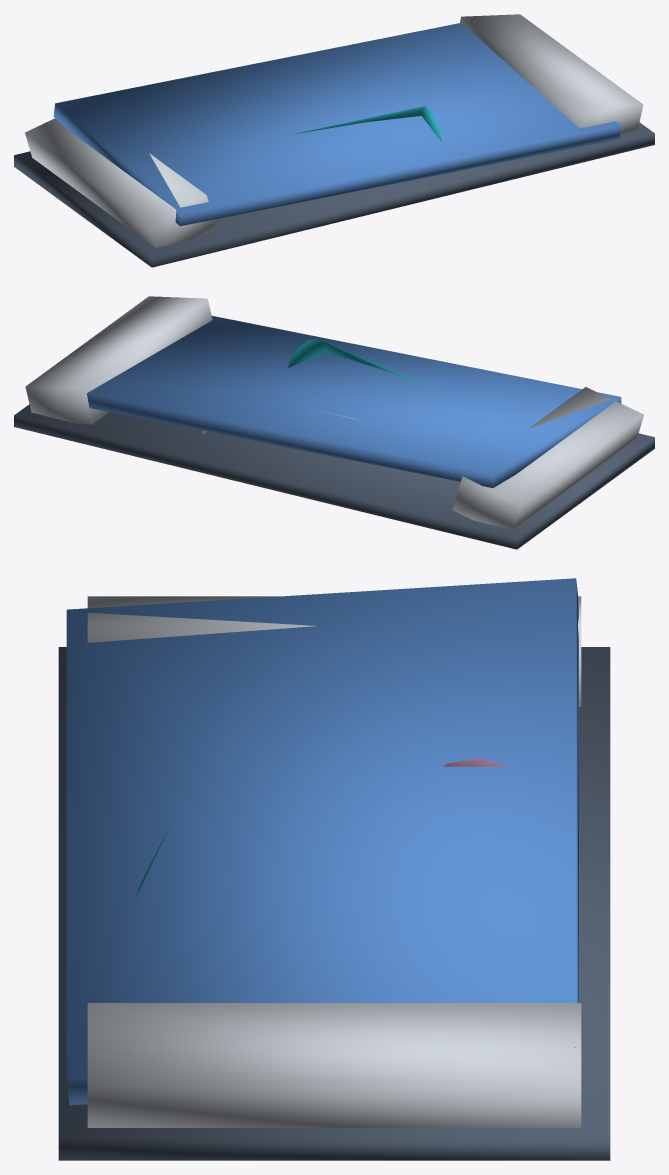
File: carwash-wreck.glb
3 views of the same model, one above another, from view 1: azimuth 30°, elevation 25°; view 2: azimuth 150°, elevation 25°; view 3: azimuth 270°, elevation 25° (orthographic). The views are drawn at different scales.
Visible parts, largest first — view 1: world; view 2: world; view 3: world.
Part boxes in pixels (x1,y1,x2,y2): world: (14, 14, 654, 267); world: (14, 296, 654, 549); world: (58, 578, 610, 1160).
Bounding box in the file's own units: 20 × 2.6 × 9.5.
